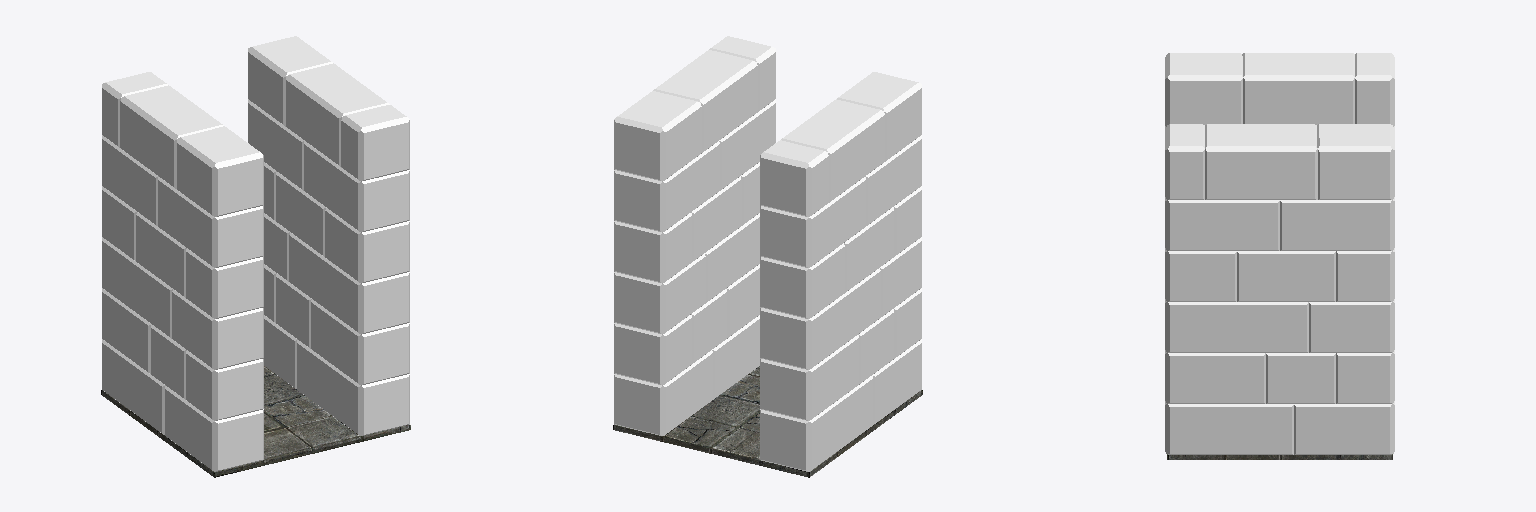
3 renders of one model, left to right at view 1: azimuth 30°, elevation 25°; view 2: azimuth 150°, elevation 25°; view 3: azimuth 270°, elevation 25°, orthographic.
Visible parts, largest first — view 1: Box3456, Box3455, Box026; view 2: Box3456, Box3455, Box026; view 3: Box3455, Box3456, Box026.
Boxes of the visible parts, x1=… form: Box3456: x1=102, y1=72, x2=263, y2=471; Box3455: x1=248, y1=36, x2=409, y2=435; Box026: x1=101, y1=366, x2=410, y2=477; Box3456: x1=760, y1=72, x2=921, y2=471; Box3455: x1=614, y1=36, x2=775, y2=435; Box026: x1=613, y1=366, x2=922, y2=477; Box3455: x1=1165, y1=124, x2=1394, y2=454; Box3456: x1=1165, y1=53, x2=1394, y2=127; Box026: x1=1167, y1=454, x2=1392, y2=459.
Size of the model in its own units: 2.04 by 3.07 by 2.04.
Materials: 2 (1 with a texture image).